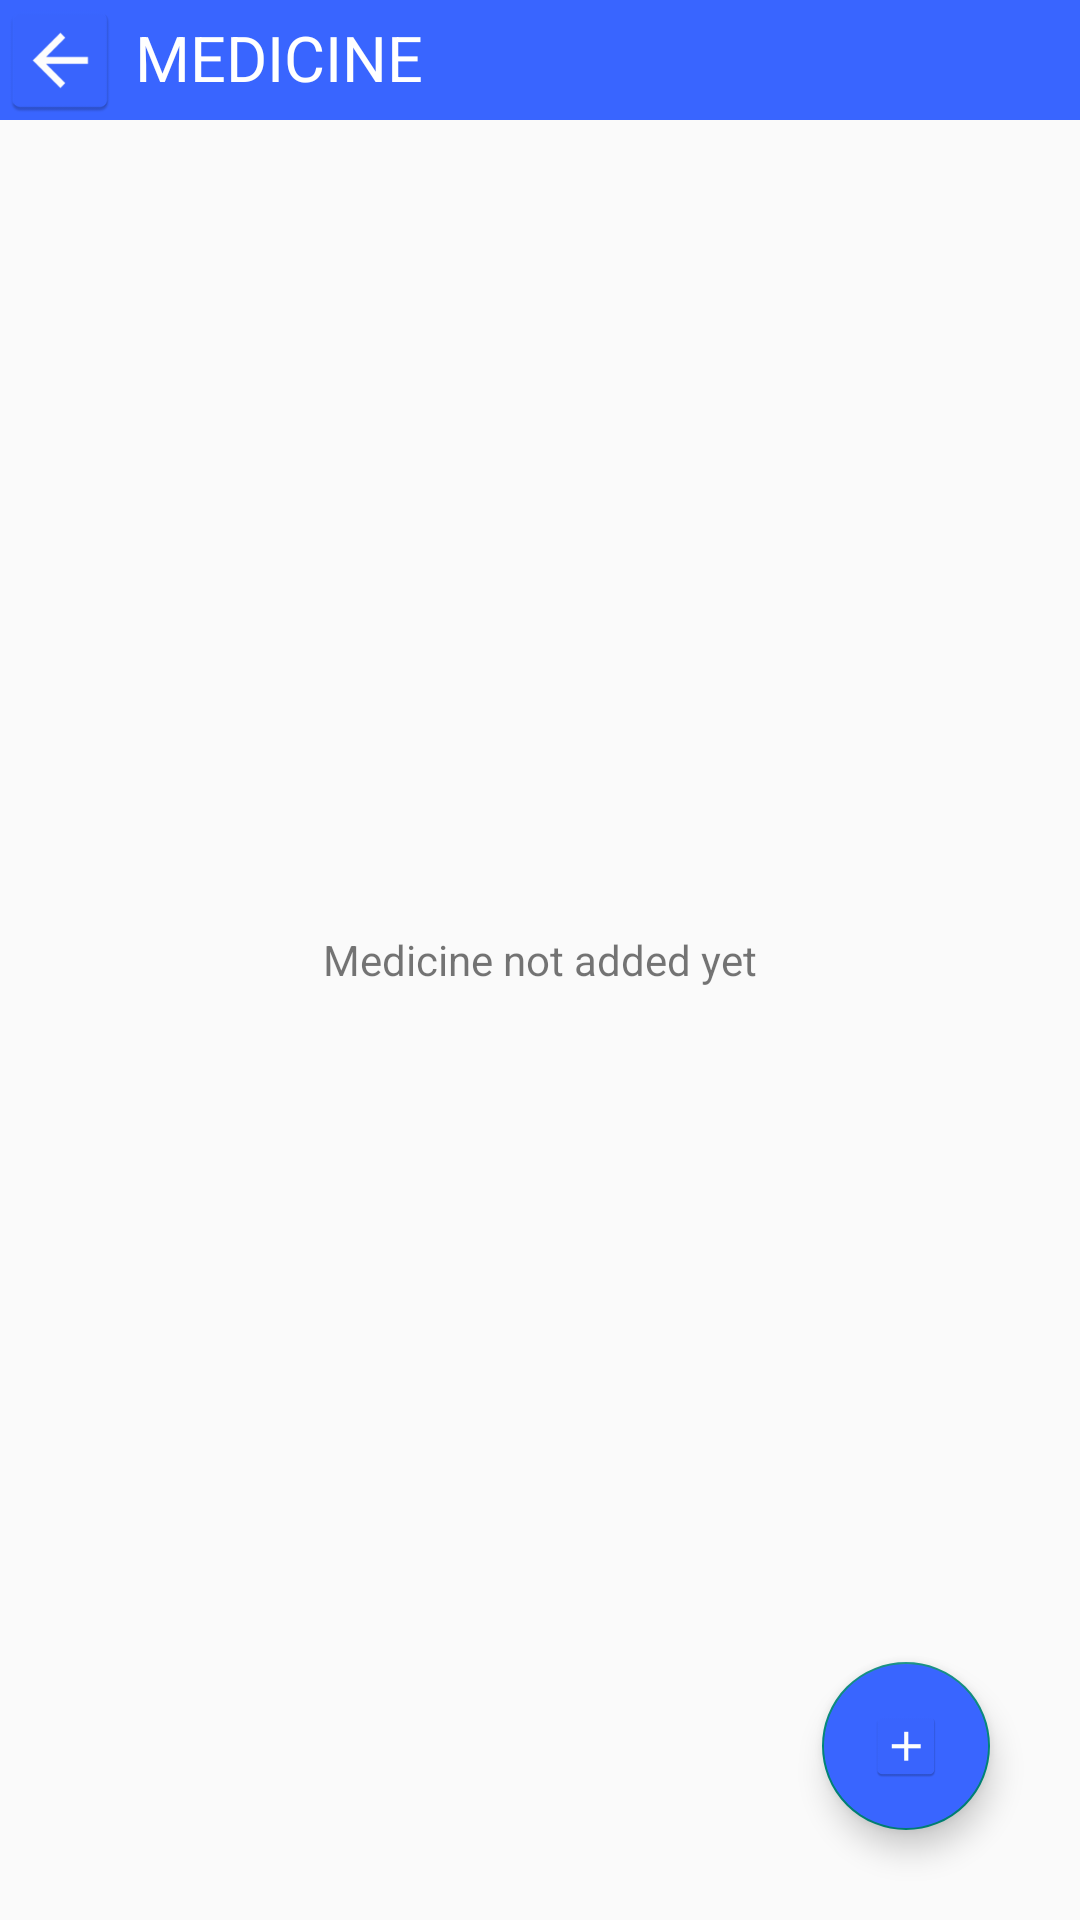

Icon bounding boxes for this 1080 × 1920 phone screenshot, format (x1, y1, x2, y2):
add: (822, 1662, 990, 1830)
back: (13, 20, 108, 111)
